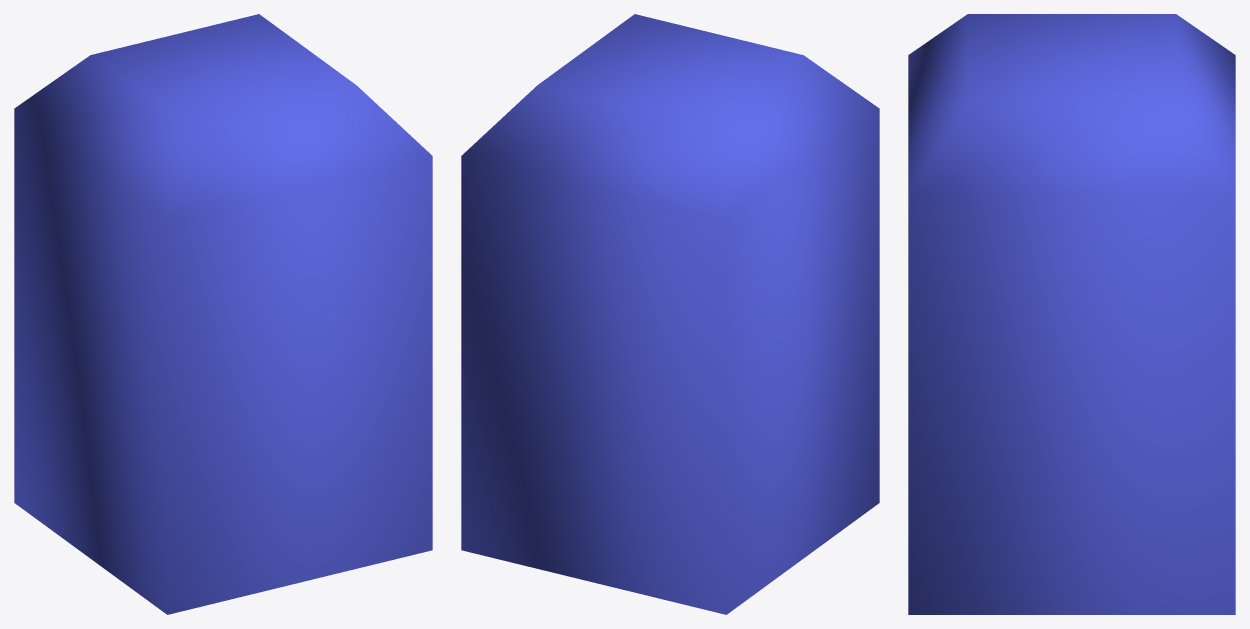
File: Island.glb
The picture shows the model from 3 angles, left to right: view 1: azimuth 30°, elevation 25°; view 2: azimuth 150°, elevation 25°; view 3: azimuth 270°, elevation 25°; orthographic projection. The views are drawn at different scales.
Visible parts, largest first — view 1: Island; view 2: Island; view 3: Island.
Part boxes in pixels (bbox=[...]): Island: bbox=[14, 14, 432, 614]; Island: bbox=[461, 14, 879, 614]; Island: bbox=[908, 14, 1235, 614].
Bounding box in the file's own units: 0.5 × 0.8219 × 0.5.
